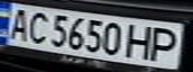0: (100, 19, 127, 56)
5: (45, 12, 72, 48), (81, 17, 106, 54)
6: (63, 16, 87, 52)
A: (3, 6, 33, 40)
C: (21, 9, 54, 44)
H: (124, 21, 160, 61)
P: (145, 25, 187, 63)
